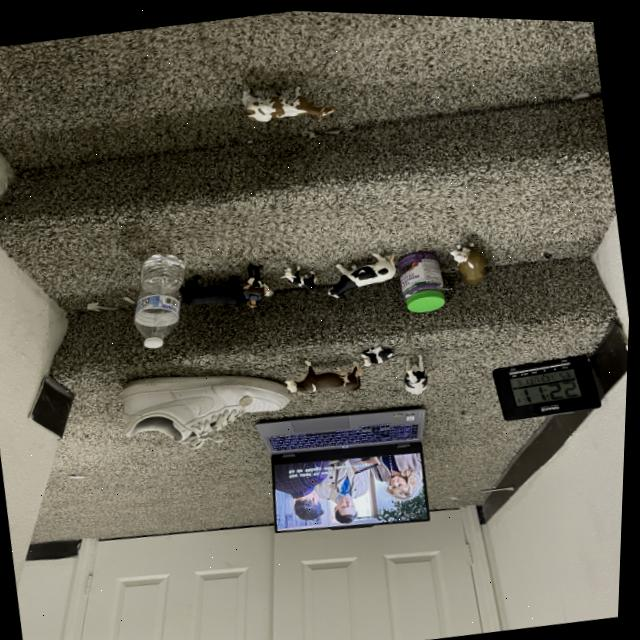cow: (319, 243, 401, 299), (282, 357, 368, 390), (447, 235, 493, 293), (178, 273, 255, 304), (234, 91, 318, 118), (401, 342, 435, 397), (281, 259, 321, 293), (360, 336, 400, 369), (244, 275, 277, 295)
person: (239, 288, 264, 307)
